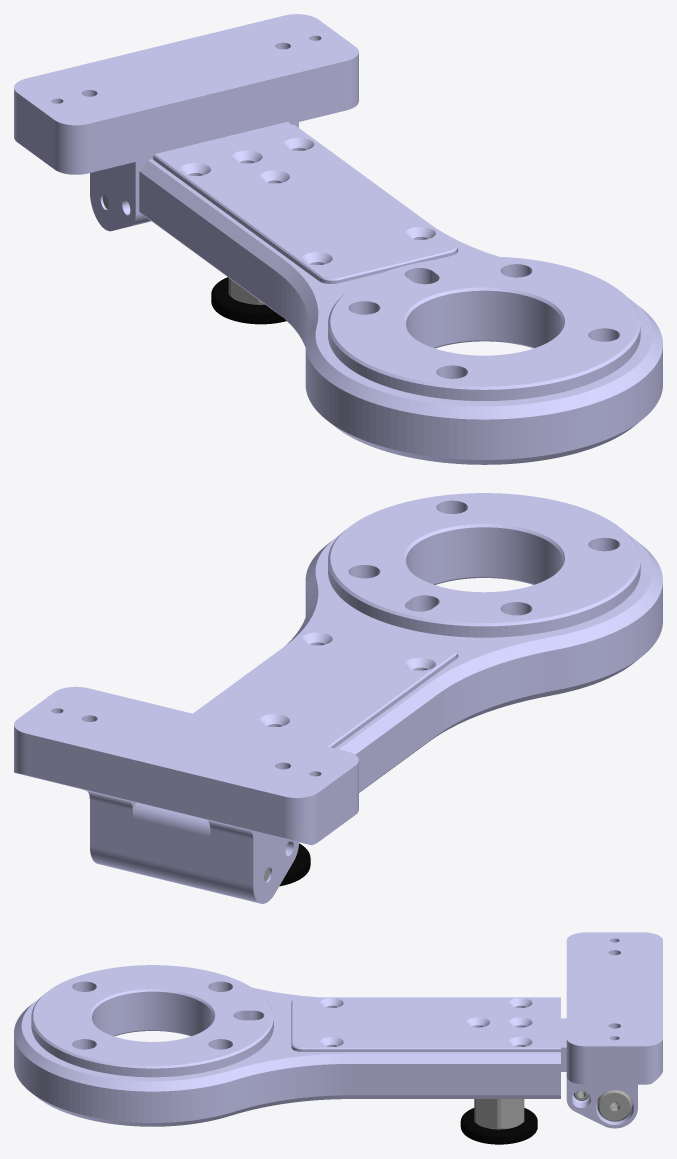
Rendered from vision_bracket.dae.
3 views of the same model, one above another, from view 1: azimuth 30°, elevation 25°; view 2: azimuth 150°, elevation 25°; view 3: azimuth 270°, elevation 25° (orthographic). The views are drawn at different scales.
Parts seen in each view (by area): view 1: node0, node8, node2, node4, node10; view 2: node0, node8, node2, node4, node3, node10; view 3: node0, node2, node8, node4, node10, node11, node5.
Boxes of the visible parts, x1=… form: node0: x1=139, y1=124, x2=662, y2=464; node8: x1=14, y1=14, x2=358, y2=147; node2: x1=153, y1=121, x2=457, y2=283; node4: x1=14, y1=75, x2=358, y2=231; node10: x1=211, y1=277, x2=286, y2=324; node0: x1=193, y1=493, x2=662, y2=792; node8: x1=14, y1=686, x2=358, y2=820; node2: x1=195, y1=619, x2=457, y2=748; node4: x1=14, y1=748, x2=358, y2=903; node3: x1=133, y1=802, x2=216, y2=892; node10: x1=279, y1=843, x2=310, y2=886; node0: x1=14, y1=965, x2=560, y2=1126; node2: x1=291, y1=997, x2=560, y2=1051; node8: x1=566, y1=932, x2=662, y2=1063; node4: x1=566, y1=1057, x2=662, y2=1128; node10: x1=460, y1=1108, x2=537, y2=1144; node11: x1=474, y1=1099, x2=524, y2=1129; node5: x1=597, y1=1090, x2=632, y2=1121.
Bounding box in the file's own units: 0.072 × 0.1685 × 0.0401.
